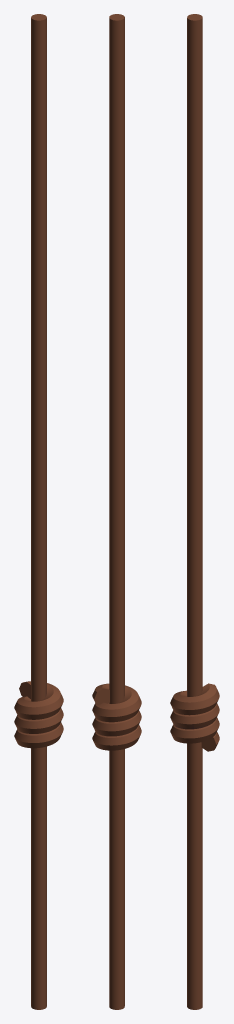
Rendered from himo(comp).fbx.
3 renders of one model, left to right at view 1: azimuth 90°, elevation 25°; view 2: azimuth 150°, elevation 25°; view 3: azimuth 330°, elevation 25°, orthographic.
Visible parts, largest first — view 1: pCylinder3; view 2: pCylinder3; view 3: pCylinder3.
Boxes of the visible parts, x1=… form: pCylinder3: x1=14, y1=14, x2=63, y2=1009; pCylinder3: x1=92, y1=14, x2=141, y2=1009; pCylinder3: x1=170, y1=14, x2=219, y2=1009.
Size of the model in its own units: 2 by 44.23 by 2.
Materials: 1 (1 with a texture image).
